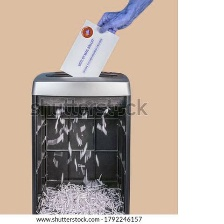book: (59, 18, 120, 79), (35, 180, 127, 215)
